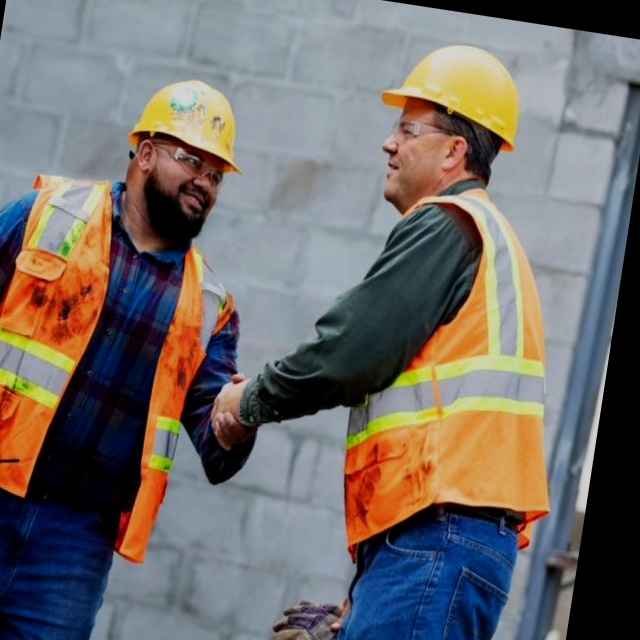Con_Casco: (368, 35, 530, 218), (116, 69, 253, 236)
Con_Chaleco: (326, 179, 586, 565), (0, 162, 232, 568)
